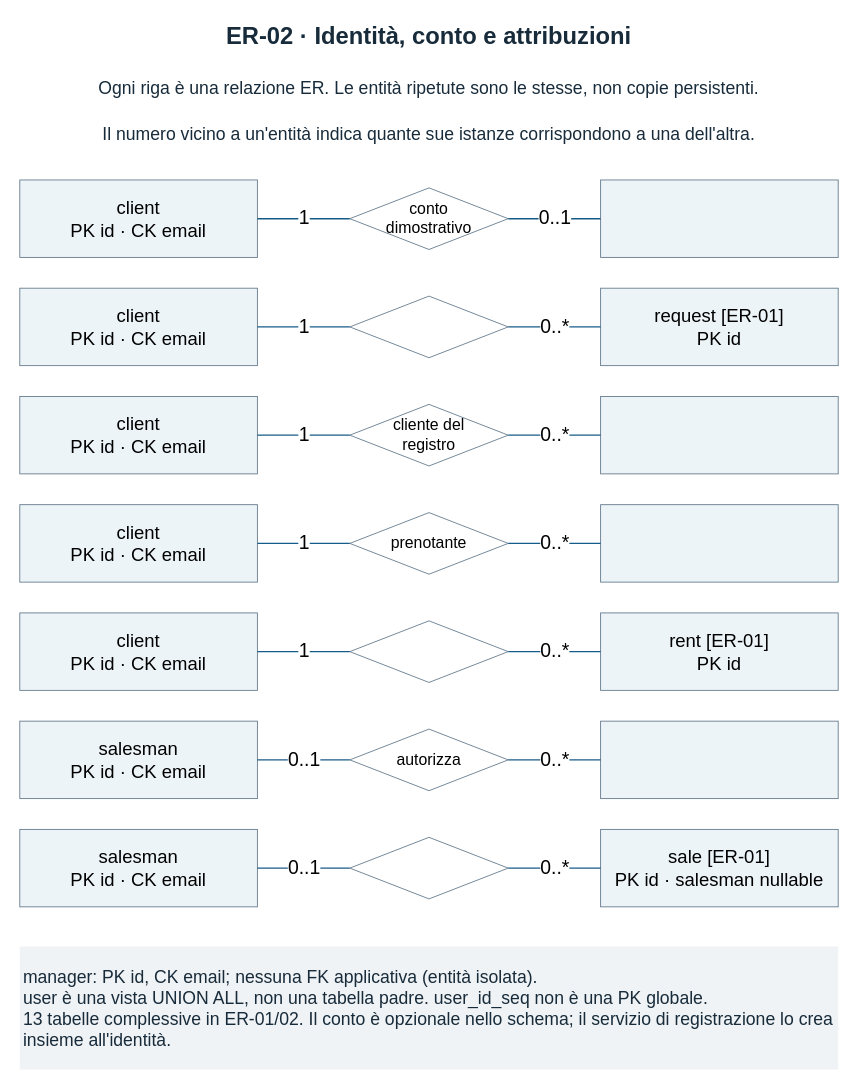
This 857x1084 diagram has some shape labels left out. Each missing label, with the centre of its shape:
"attribuzione nel registro" goes at [428,867].
"bank_account PK iban · CK/FK client" goes at [719,218].
"noleggiante" goes at [428,651].
"request [ER-01] PK id · salesman nullable" goes at [719,759].
"richiedente" goes at [428,326].
"sale [ER-01] PK id" goes at [719,435].
"test_drive [ER-01] PK id" goes at [719,543].
